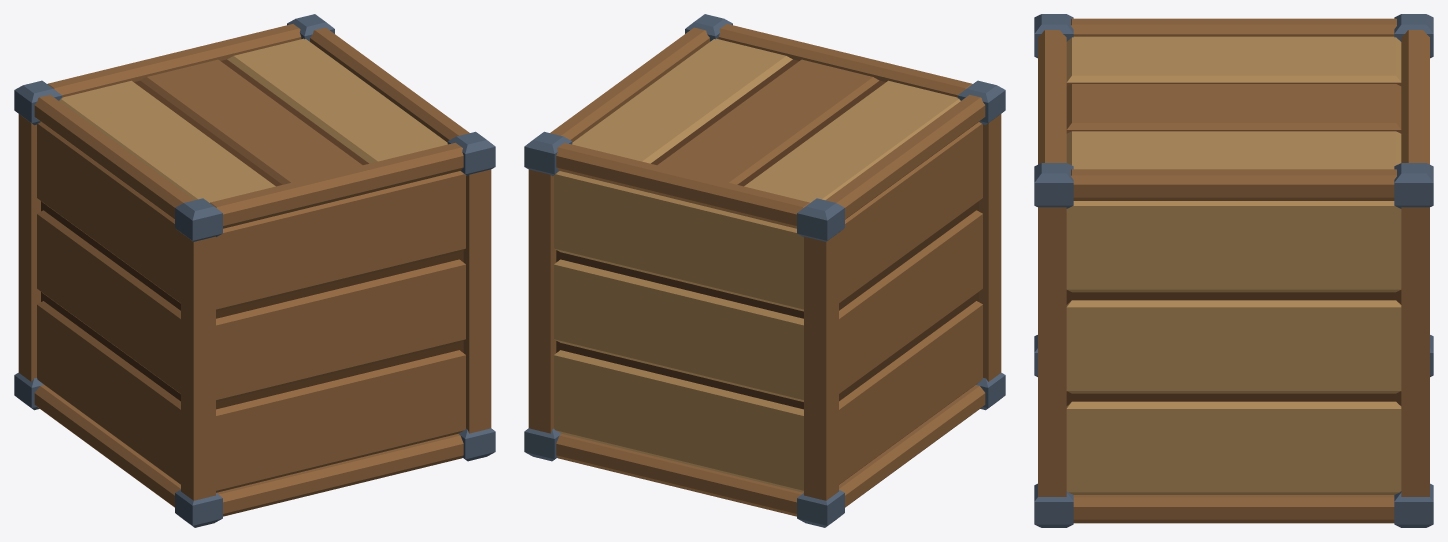
Rendered from Crate_21.glb.
3 views of the same model, side by side, from view 1: azimuth 30°, elevation 25°; view 2: azimuth 150°, elevation 25°; view 3: azimuth 270°, elevation 25° (orthographic). The views are drawn at different scales.
Parts seen in each view (by area): view 1: Crate_21; view 2: Crate_21; view 3: Crate_21.
Part boxes in pixels (box(x1,y1,x2,y2)): Crate_21: box(14, 14, 495, 527); Crate_21: box(524, 14, 1005, 527); Crate_21: box(1034, 14, 1433, 527).
Bounding box in the file's own units: 2.19 × 2.19 × 2.23.
